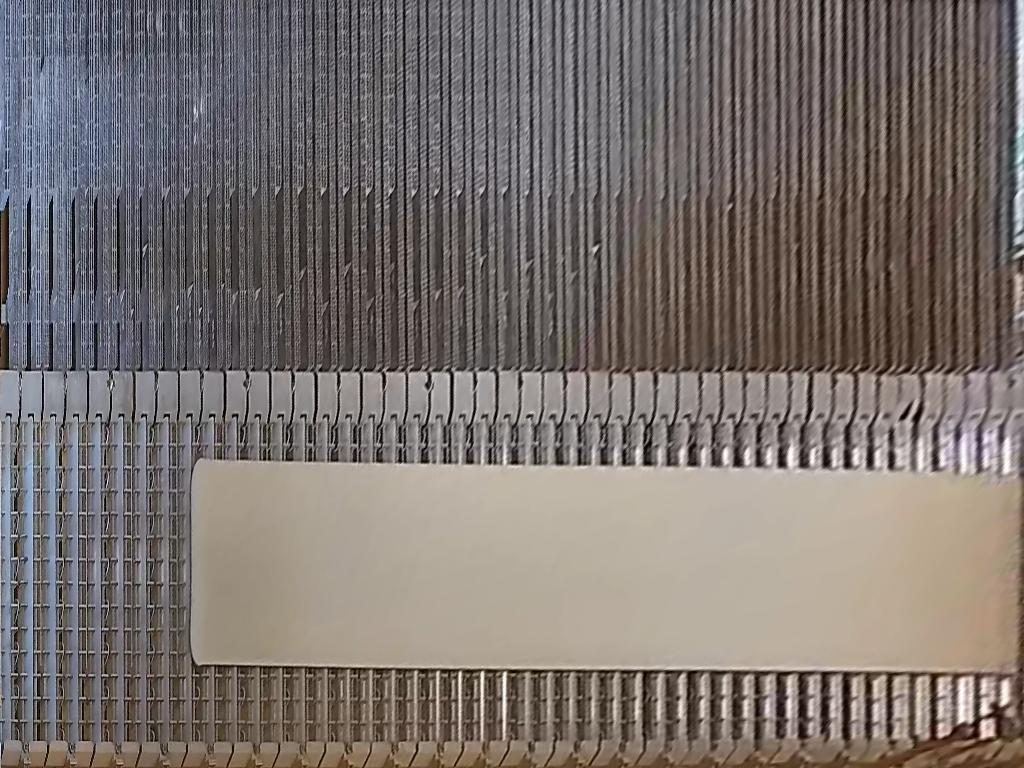steel: (188, 455, 1024, 675)
